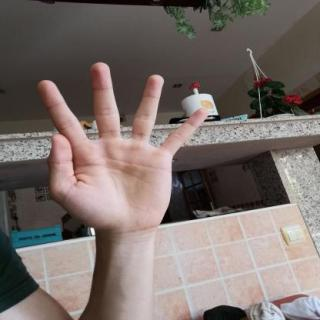SHEEN: (20, 53, 217, 239)
